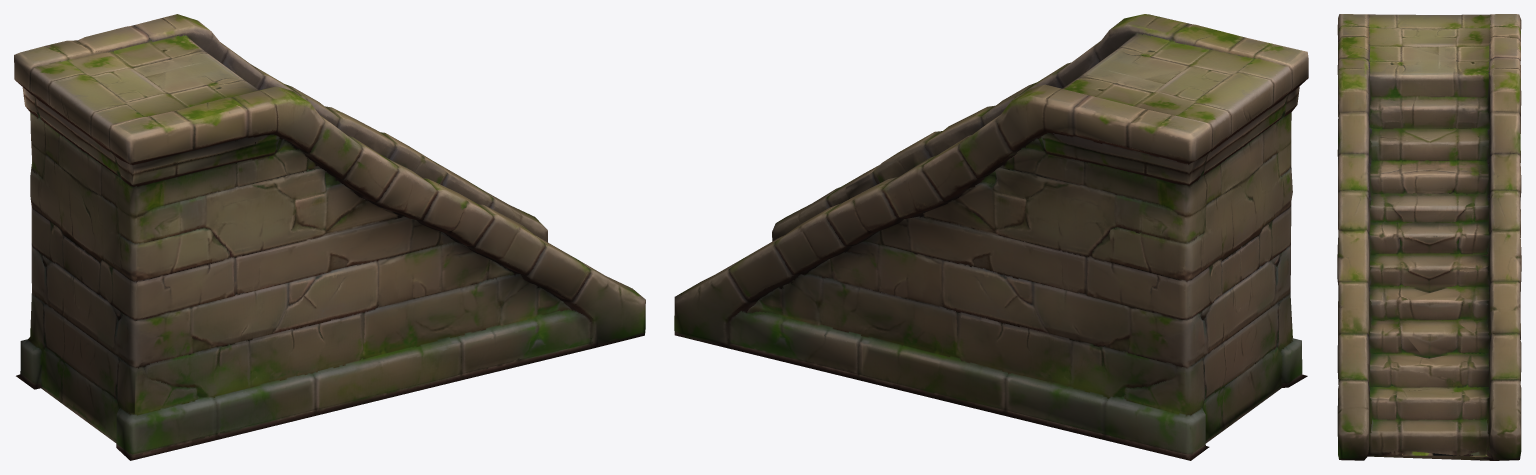
Rendered from StairsMoss.fbx.
3 views of the same model, side by side, from view 1: azimuth 30°, elevation 25°; view 2: azimuth 150°, elevation 25°; view 3: azimuth 270°, elevation 25° (orthographic). The views are drawn at different scales.
Visible parts, largest first — view 1: StairsMoss; view 2: StairsMoss; view 3: StairsMoss.
Part boxes in pixels (bbox=[...]): StairsMoss: bbox=[14, 14, 645, 460]; StairsMoss: bbox=[674, 14, 1308, 460]; StairsMoss: bbox=[1337, 14, 1521, 460].
Size of the model in its own units: 0.9949 by 0.5925 by 0.3926.
